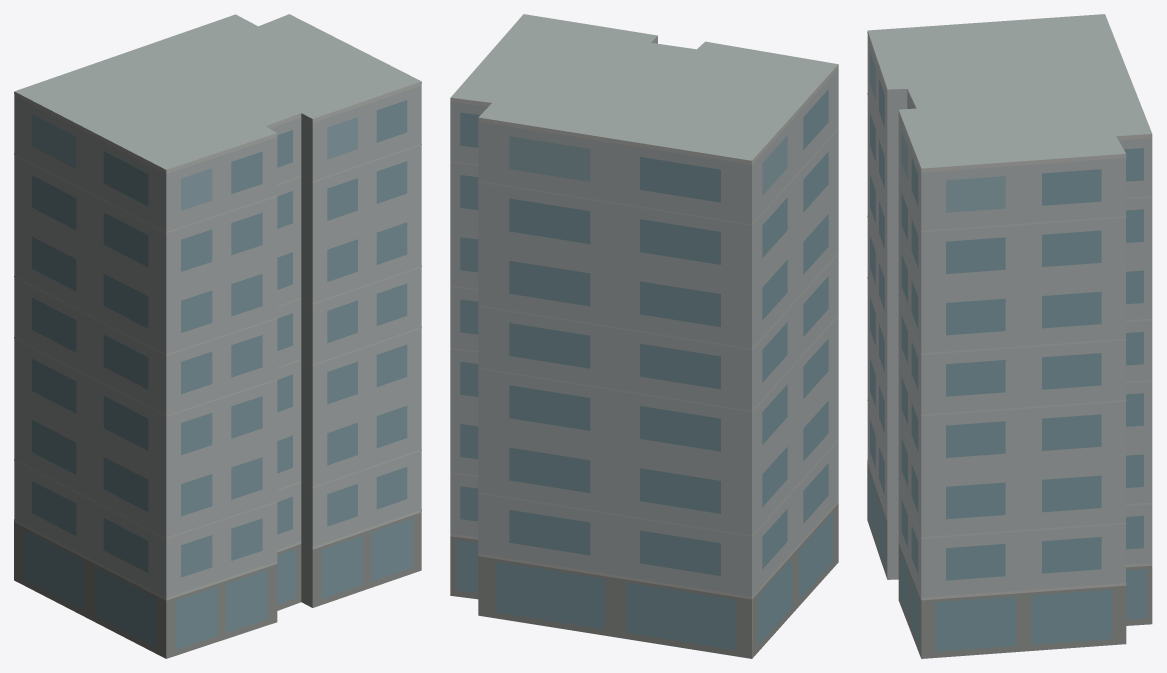
File: survey-upis-32697850.glb
3 renders of one model, left to right at view 1: azimuth 30°, elevation 25°; view 2: azimuth 150°, elevation 25°; view 3: azimuth 270°, elevation 25°, orthographic.
Parts seen in each view (by area): view 1: survey-upis-32697850.tmp; view 2: survey-upis-32697850.tmp; view 3: survey-upis-32697850.tmp.
Boxes of the visible parts, left/top/right/bottom form: survey-upis-32697850.tmp: left=14, top=14, right=421, bottom=658; survey-upis-32697850.tmp: left=450, top=14, right=838, bottom=658; survey-upis-32697850.tmp: left=867, top=14, right=1152, bottom=658.
Size of the model in its own units: 19.56 by 28.9 by 15.24.
